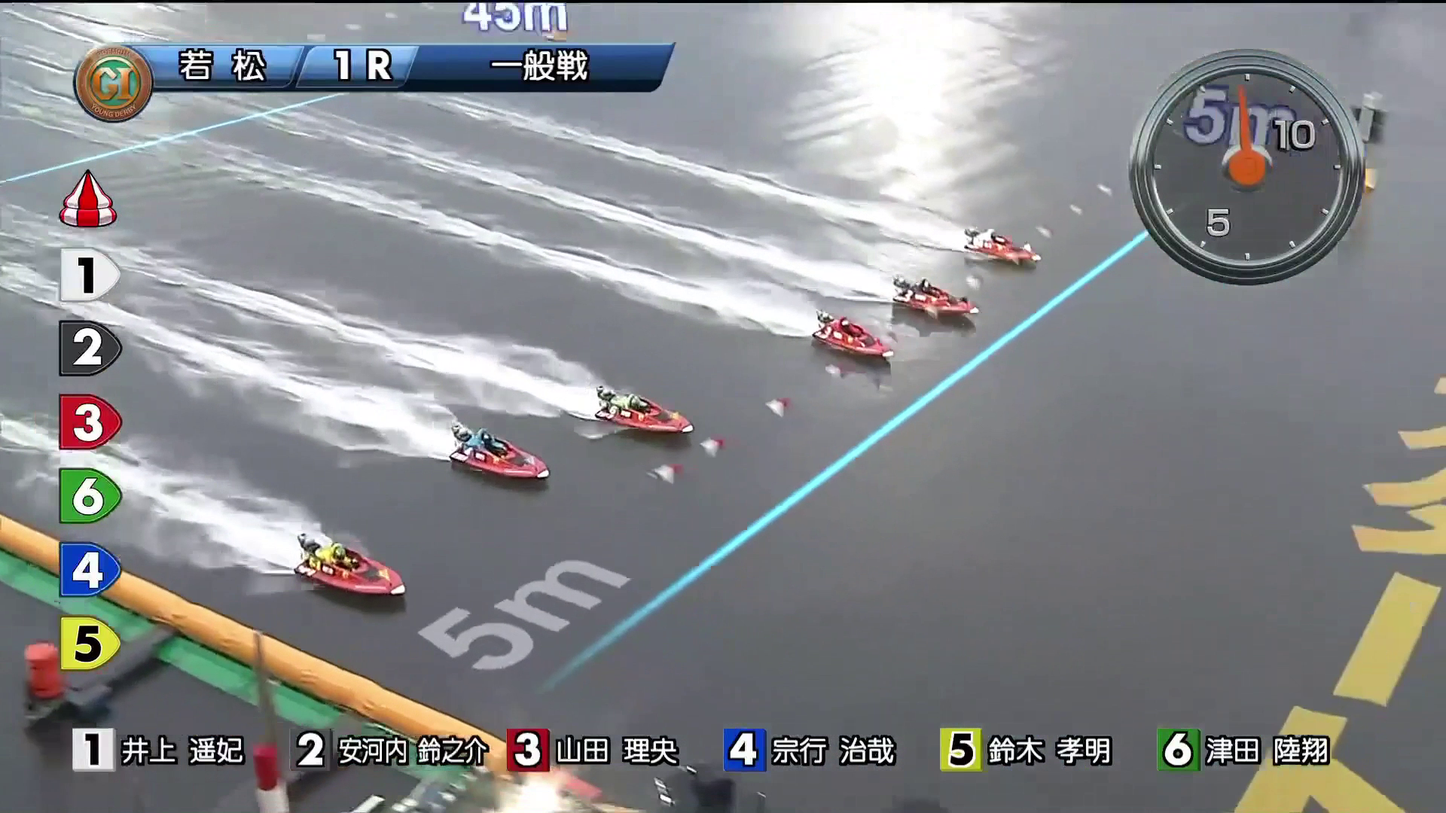１号艇: (919, 220, 991, 266)
２号艇: (895, 274, 956, 312)
３号艇: (816, 311, 871, 352)
４号艇: (622, 388, 686, 431)
５号艇: (490, 451, 559, 489)
６号艇: (384, 576, 449, 623)
